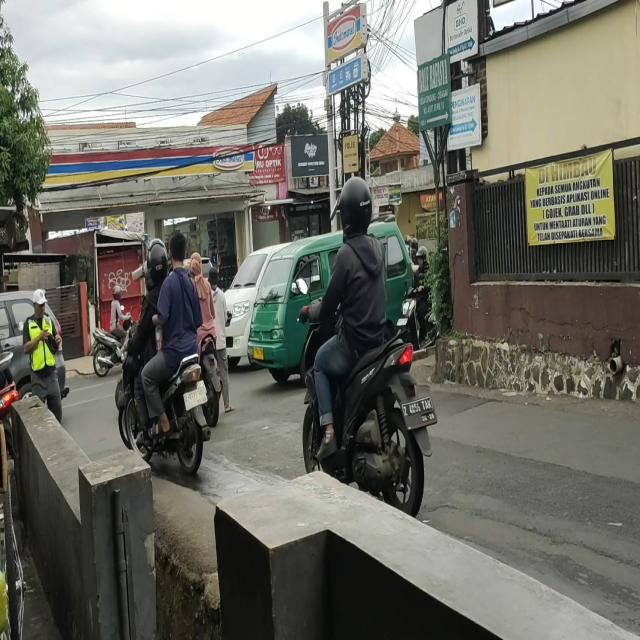helmet: (340, 179, 374, 229), (144, 239, 169, 280)
no-helmet: (170, 231, 187, 267), (190, 254, 203, 281)
